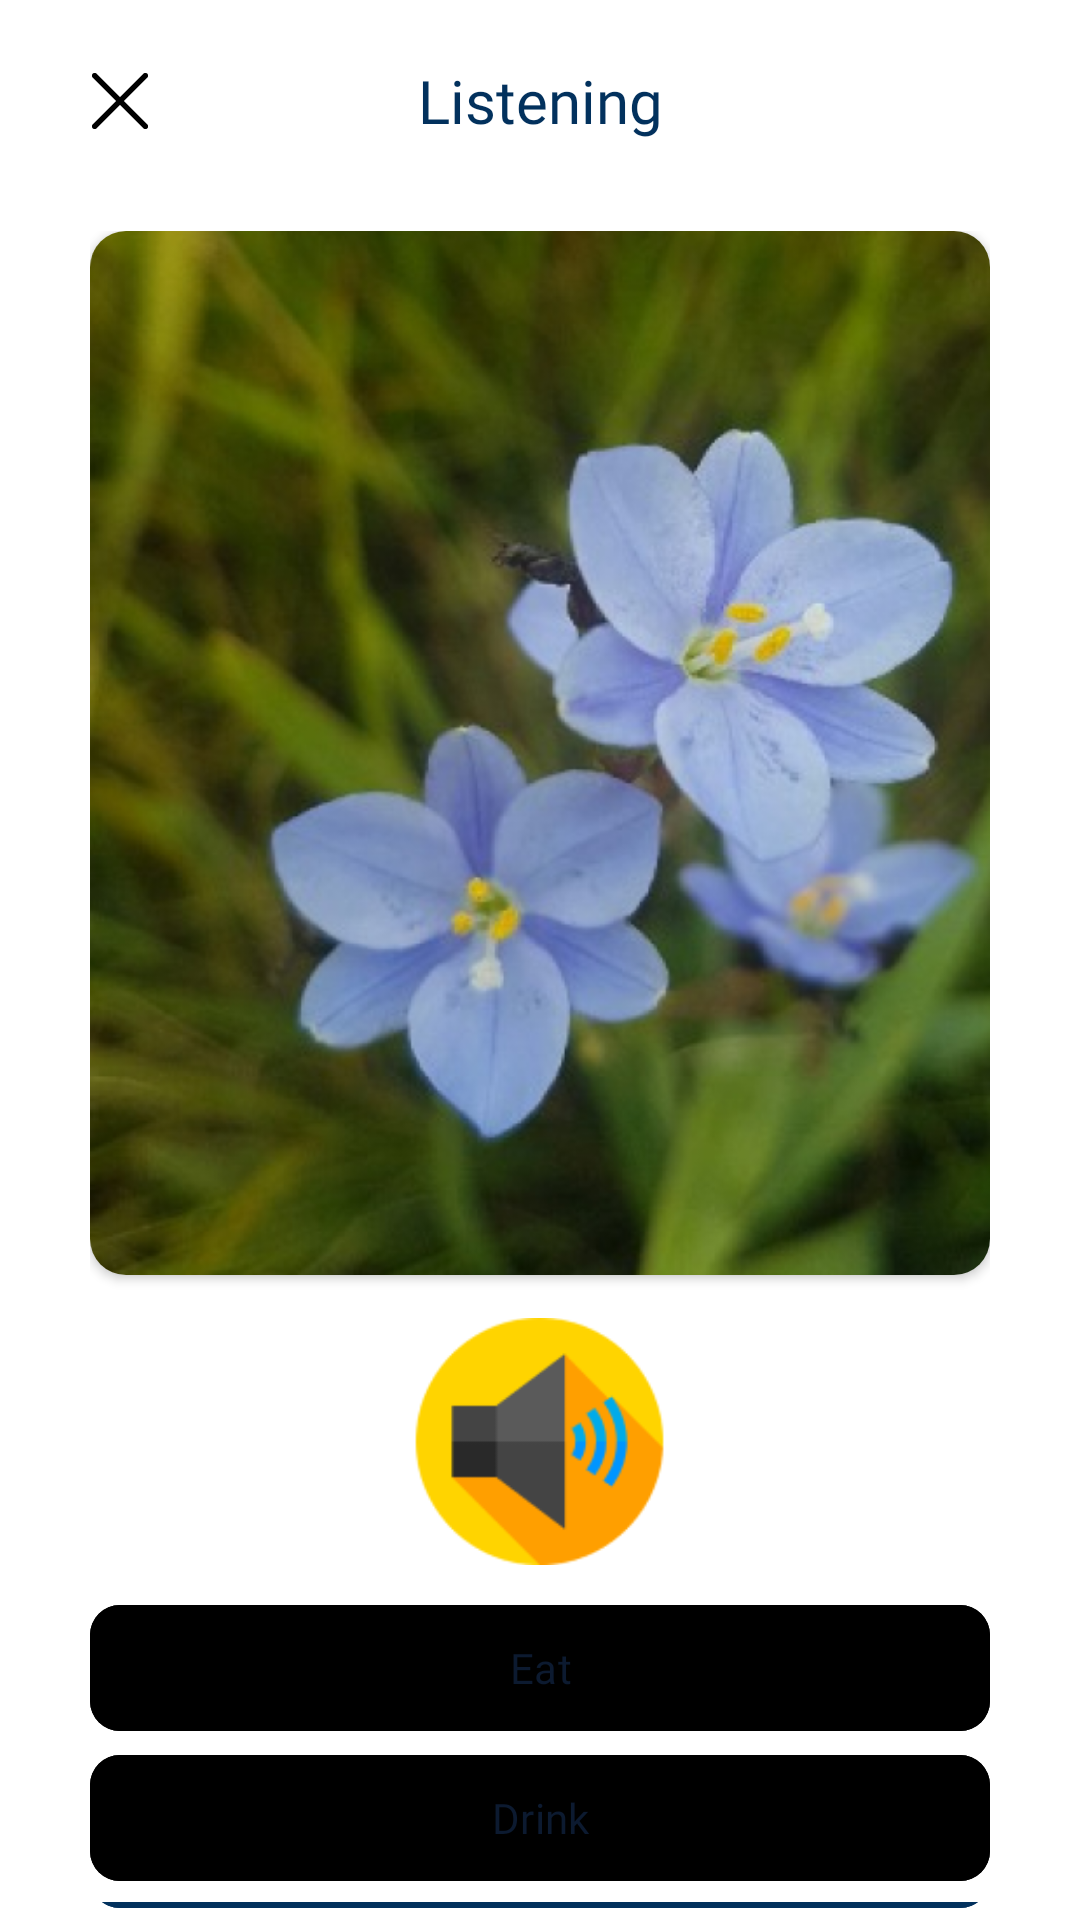

Locate icon controls on the screen. Image size 1080x1920, boxes as [x1=x1, y1=y1, x2=x2, y2=y2].
cross: [x1=92, y1=73, x2=148, y2=129]
listening sound: [x1=415, y1=1318, x2=664, y2=1565]
